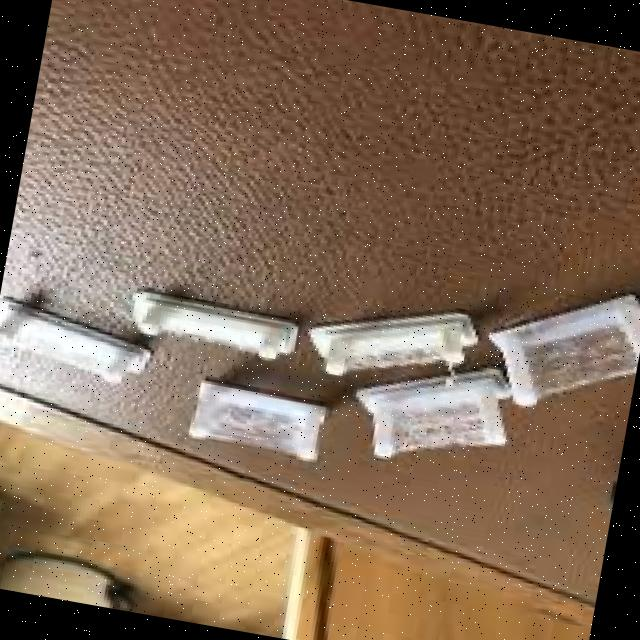stringing: (533, 326, 637, 398), (211, 405, 299, 450), (399, 406, 487, 451), (161, 323, 258, 354), (349, 347, 445, 369)
